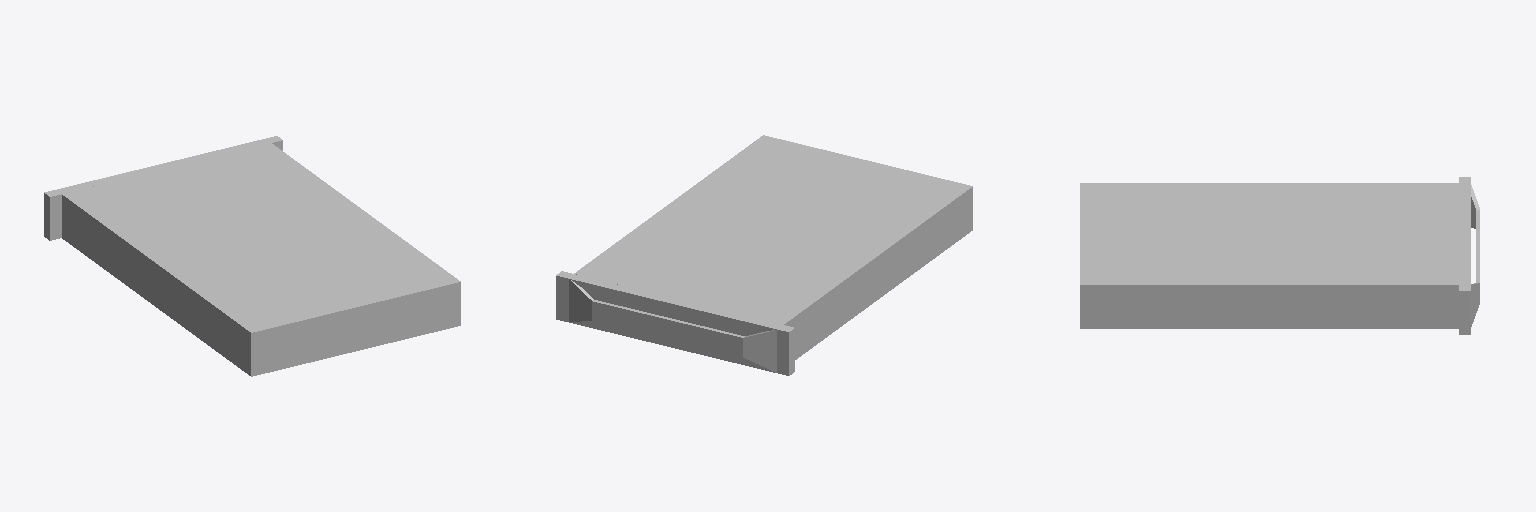
Rendered from handlebar_2u.obj.
3 views of the same model, side by side, from view 1: azimuth 30°, elevation 25°; view 2: azimuth 150°, elevation 25°; view 3: azimuth 270°, elevation 25° (orthographic).
Visible parts, largest first — view 1: Chassis_Cube, Front_Panel_Cube.002; view 2: Chassis_Cube, Front_Panel_Cube.002, Bexel.001_Cube.005; view 3: Chassis_Cube, Front_Panel_Cube.002, Bexel.001_Cube.005.
Part boxes in pixels (x1,y1,x2,y2): Chassis_Cube: (62,143,460,376); Front_Panel_Cube.002: (44,136,282,240); Chassis_Cube: (574,135,972,359); Front_Panel_Cube.002: (556,271,794,375); Bexel.001_Cube.005: (569,279,776,372); Chassis_Cube: (1080,183,1458,328); Front_Panel_Cube.002: (1459,177,1470,334); Bexel.001_Cube.005: (1471,185,1479,326).
Bounding box in the file's own units: 0.6426 × 0.1158 × 0.9572.